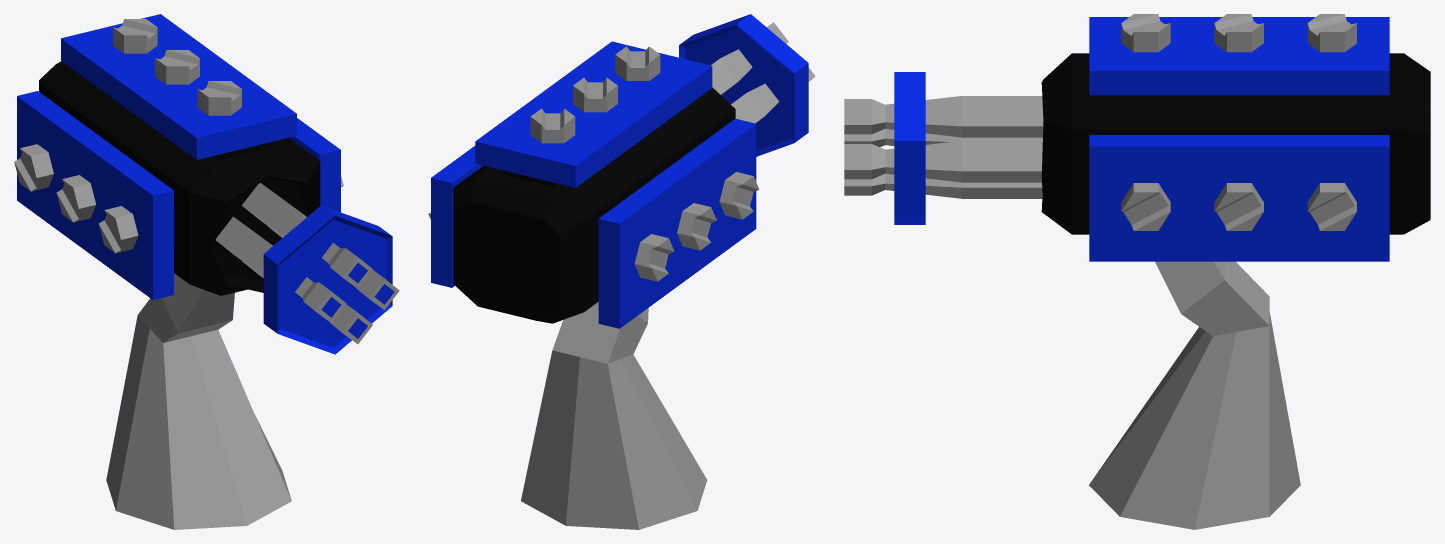
The picture shows the model from 3 angles, left to right: view 1: azimuth 30°, elevation 25°; view 2: azimuth 150°, elevation 25°; view 3: azimuth 270°, elevation 25°; orthographic projection. The views are drawn at different scales.
Parts seen in each view (by area): view 1: Cylinder.019, Turreta; view 2: Cylinder.019, Turreta; view 3: Cylinder.019, Turreta.
Boxes of the visible parts, <box> form: Cylinder.019: <box>14,14,343,529</box>; Turreta: <box>215,183,399,354</box>; Cylinder.019: <box>428,41,759,529</box>; Turreta: <box>679,14,815,156</box>; Cylinder.019: <box>1041,14,1430,529</box>; Turreta: <box>844,72,1043,224</box>.
Bounding box in the file's own units: 1069 × 1918 × 2210.
